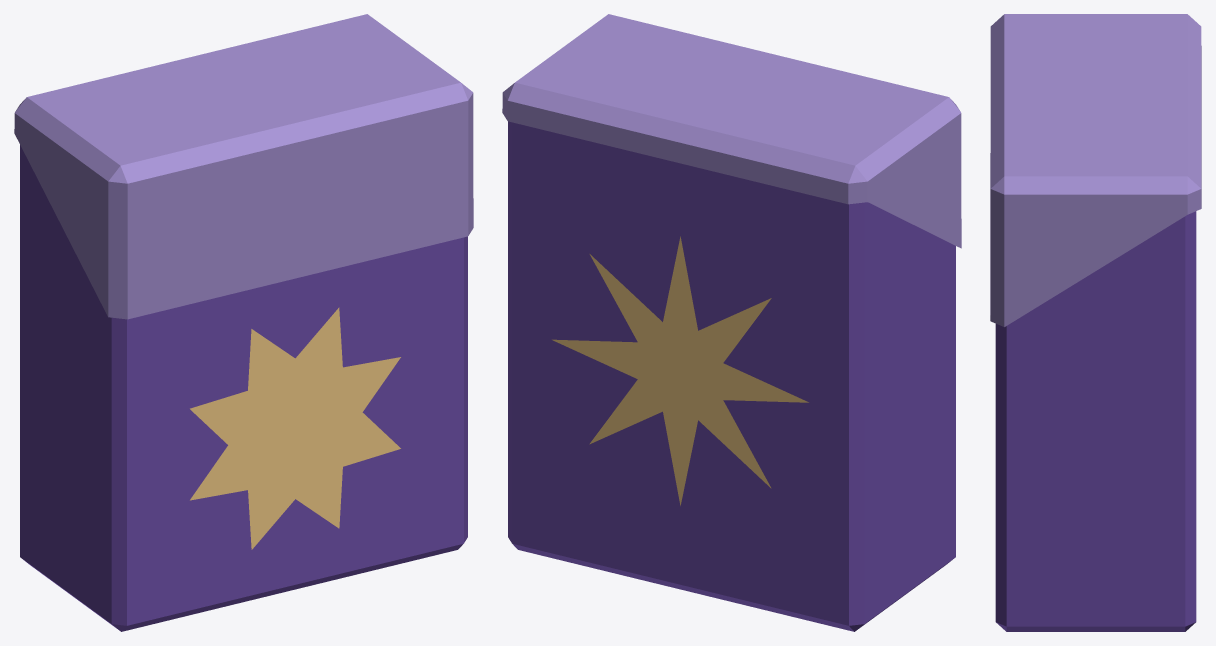
Rendered from Candy_2.fbx.
The picture shows the model from 3 angles, left to right: view 1: azimuth 30°, elevation 25°; view 2: azimuth 150°, elevation 25°; view 3: azimuth 270°, elevation 25°; orthographic projection. The views are drawn at different scales.
Parts seen in each view (by area): view 1: Candy_2; view 2: Candy_2; view 3: Candy_2.
Part boxes in pixels (left/top/right/bottom): Candy_2: left=14, top=14, right=473, bottom=631; Candy_2: left=502, top=14, right=961, bottom=631; Candy_2: left=990, top=14, right=1201, bottom=631.
Size of the model in its own units: 8.2 by 10.03 by 4.2.
